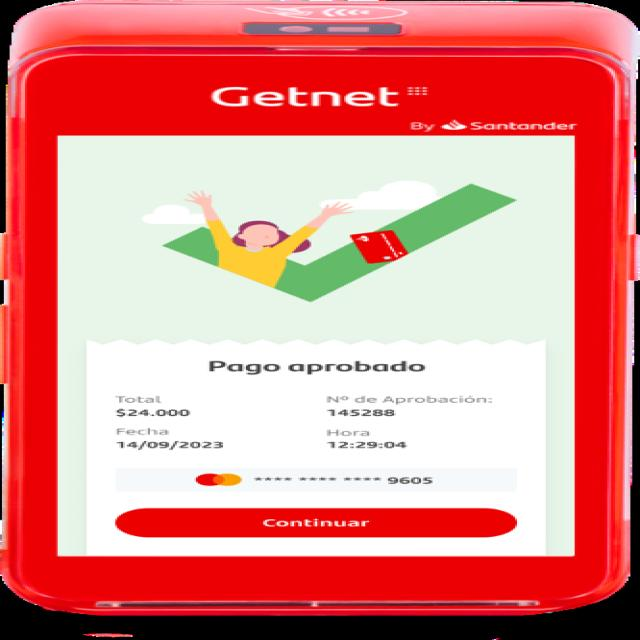getnet: (212, 86, 428, 107)
santander: (441, 120, 468, 130)
